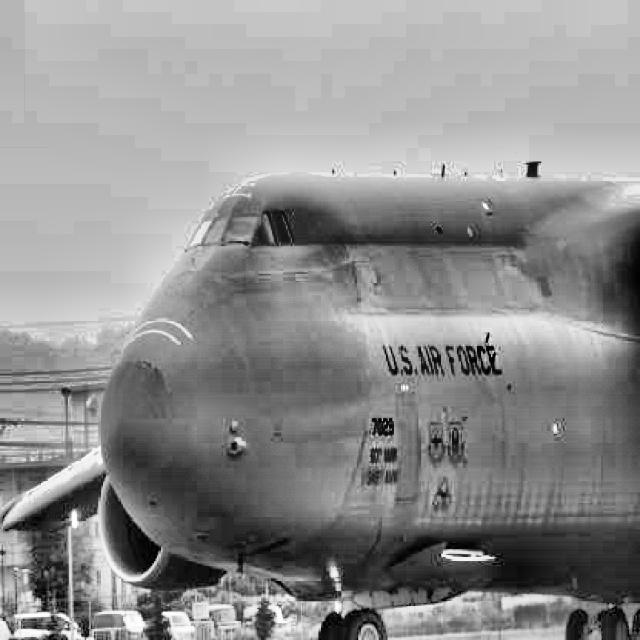C5: (0, 161, 638, 638)
